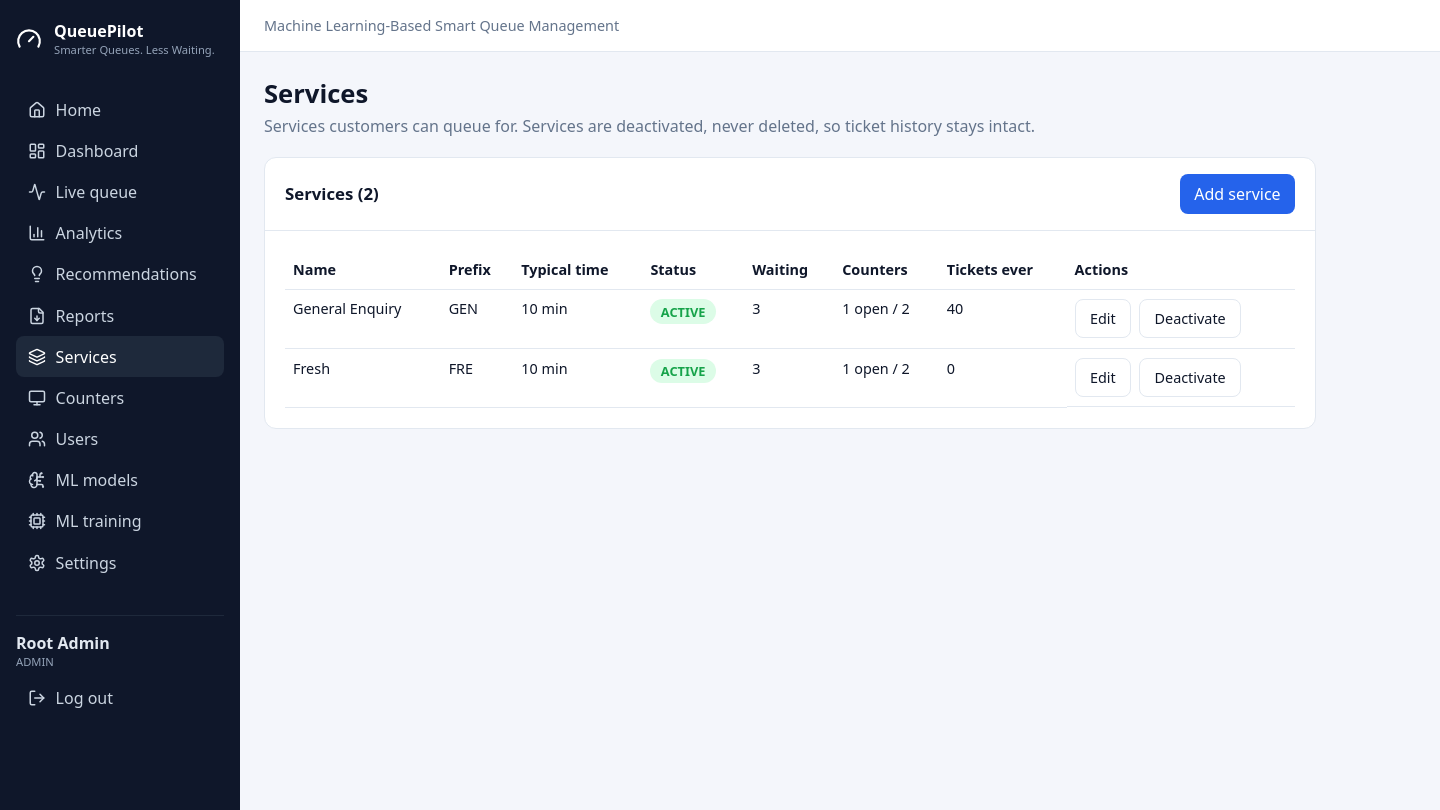
Test: editing locks the prefix once tickets exist
Click the button with aria-label "Edit General Enquiry": click(1103, 319) [1075,299,1131,338]
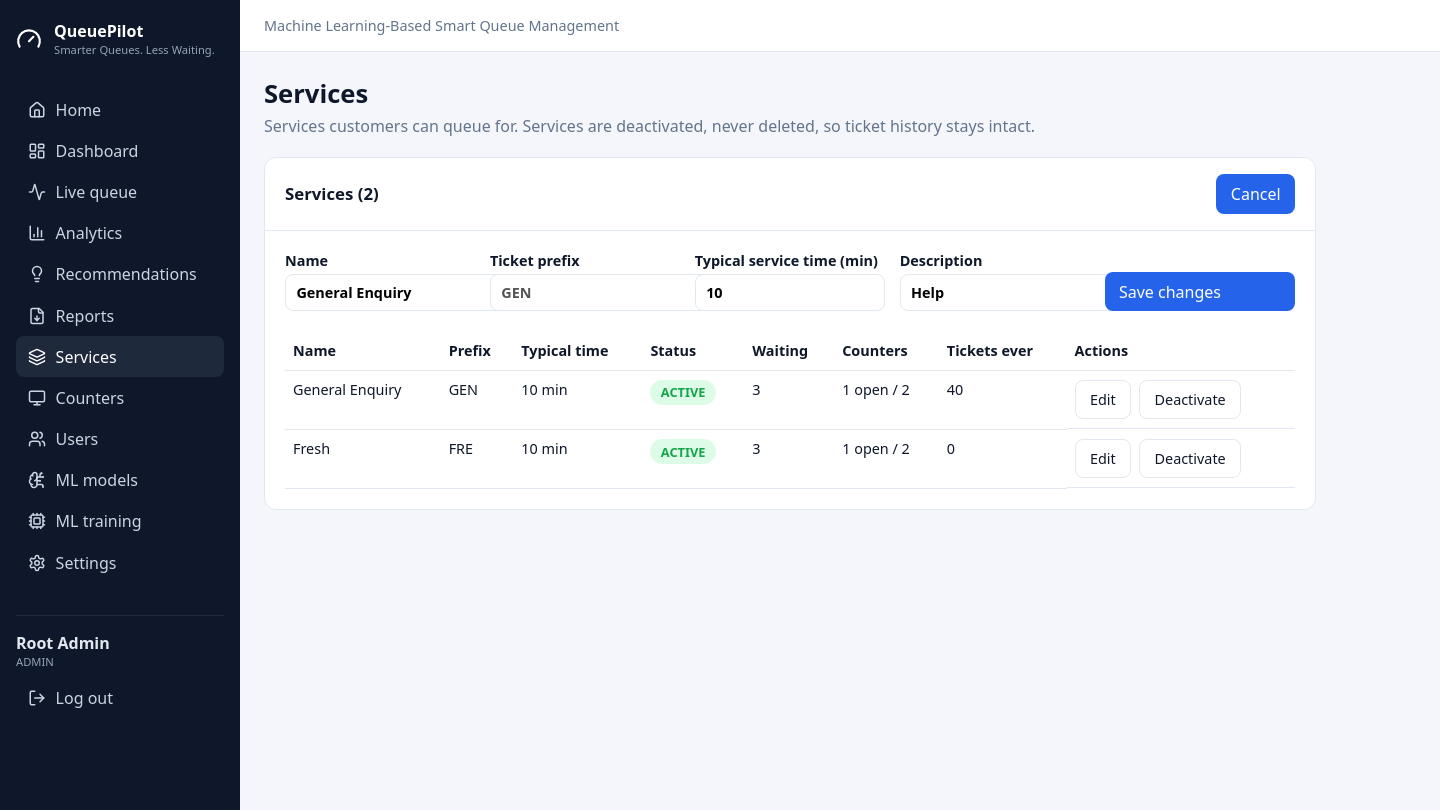
Now the field labelled "Ticket prefix" is disabled, box [490,274,734,311]
Replace the text in the field labelled "Name" with "General Help": (407, 293) [285,274,529,311]
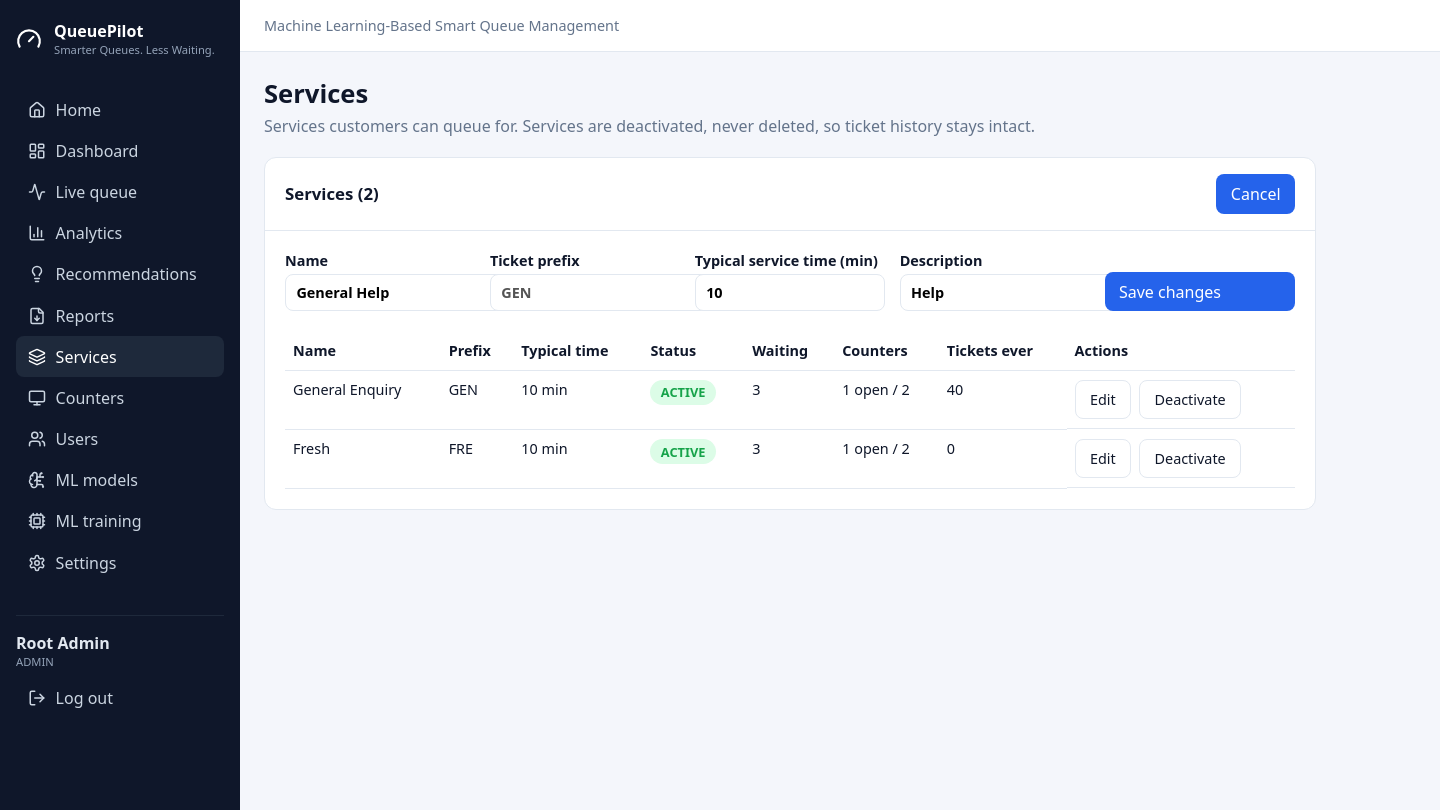
Click the button "Save changes": click(1200, 292) [1104,272,1295,311]
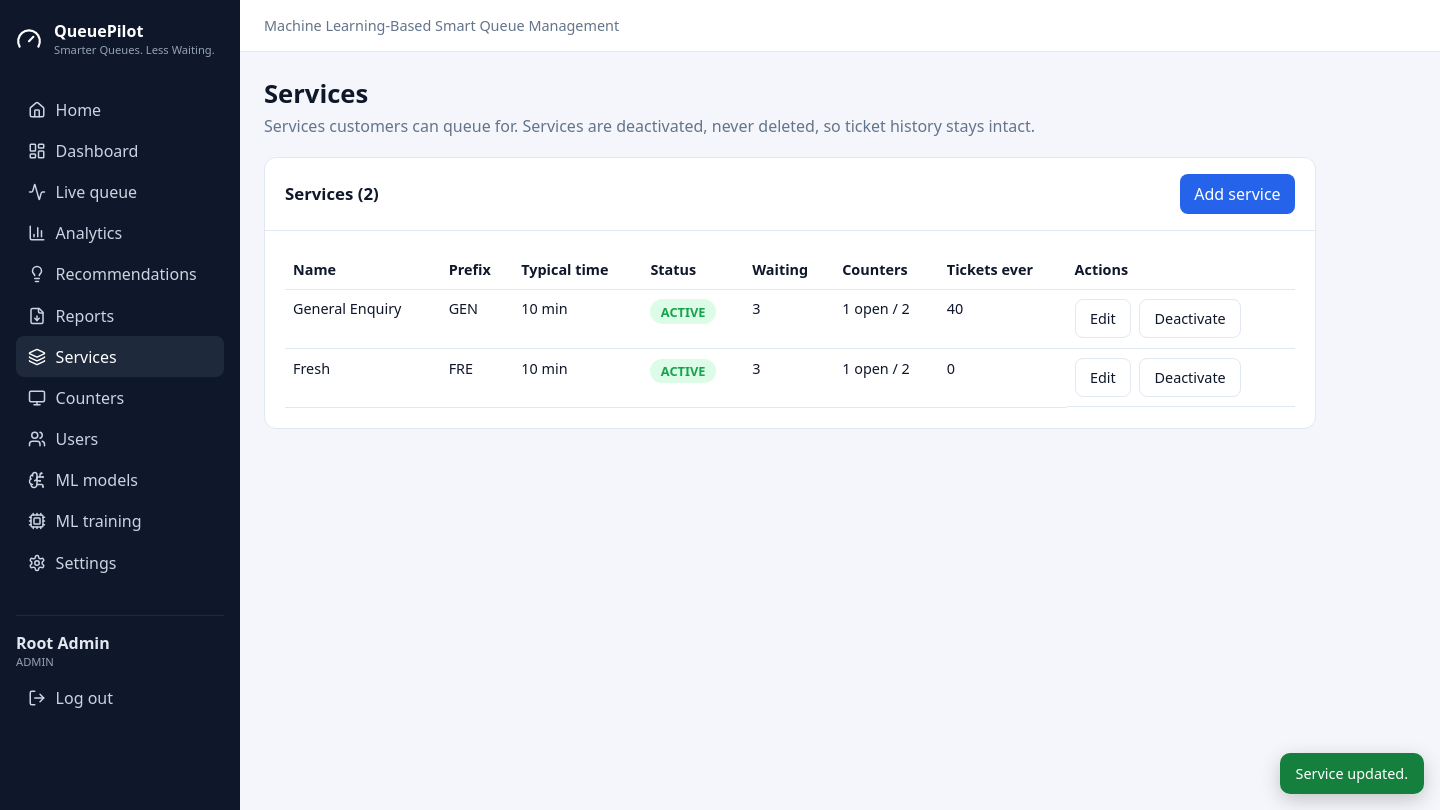
Click the button with aria-label "Edit Fresh": click(1103, 378) [1075,358,1131,397]
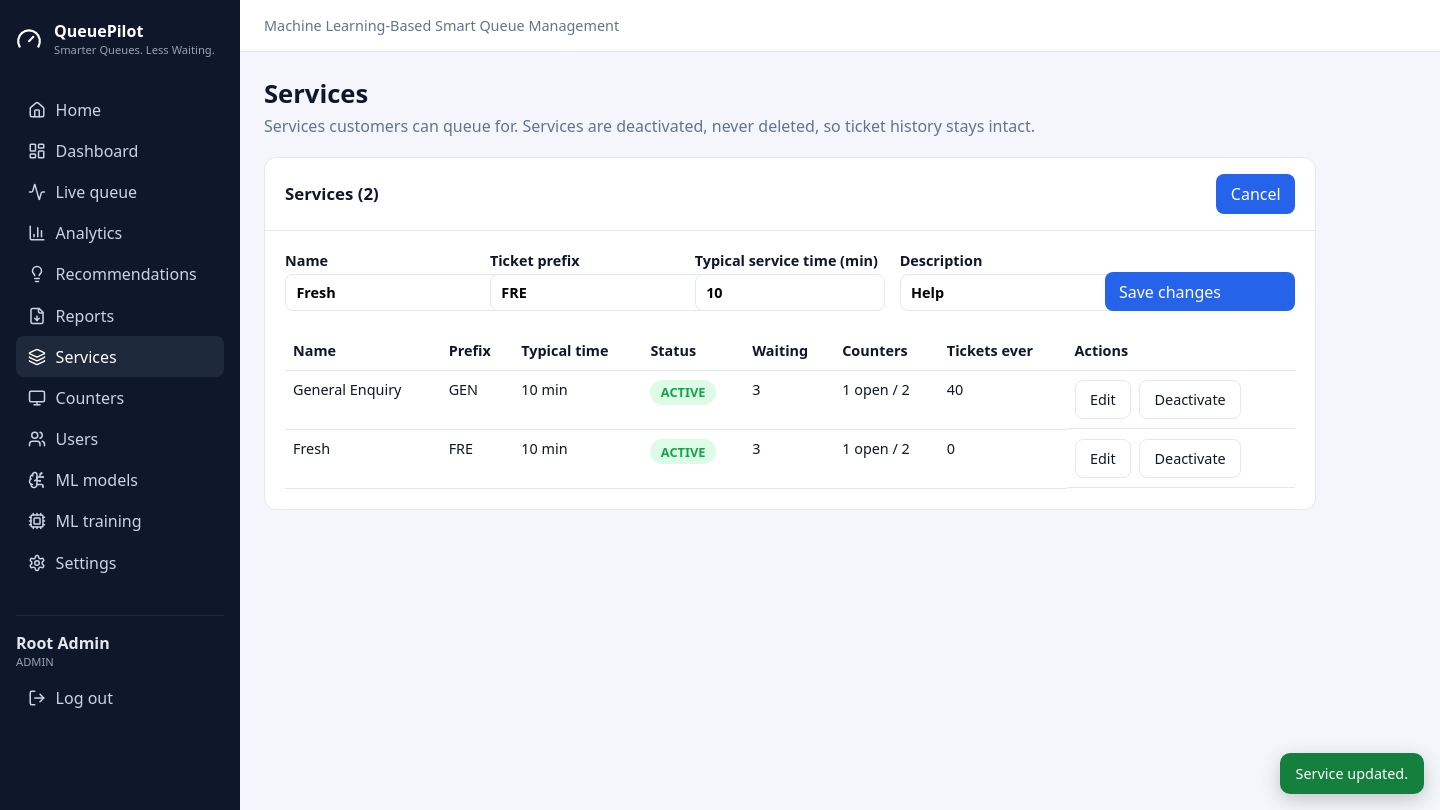
Now the field labelled "Ticket prefix" is enabled, box [490,274,734,311]
